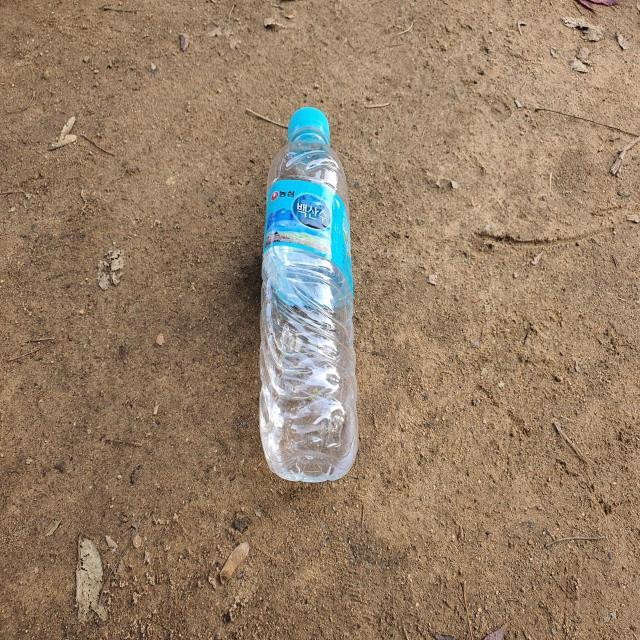plastic: (259, 106, 358, 482)
